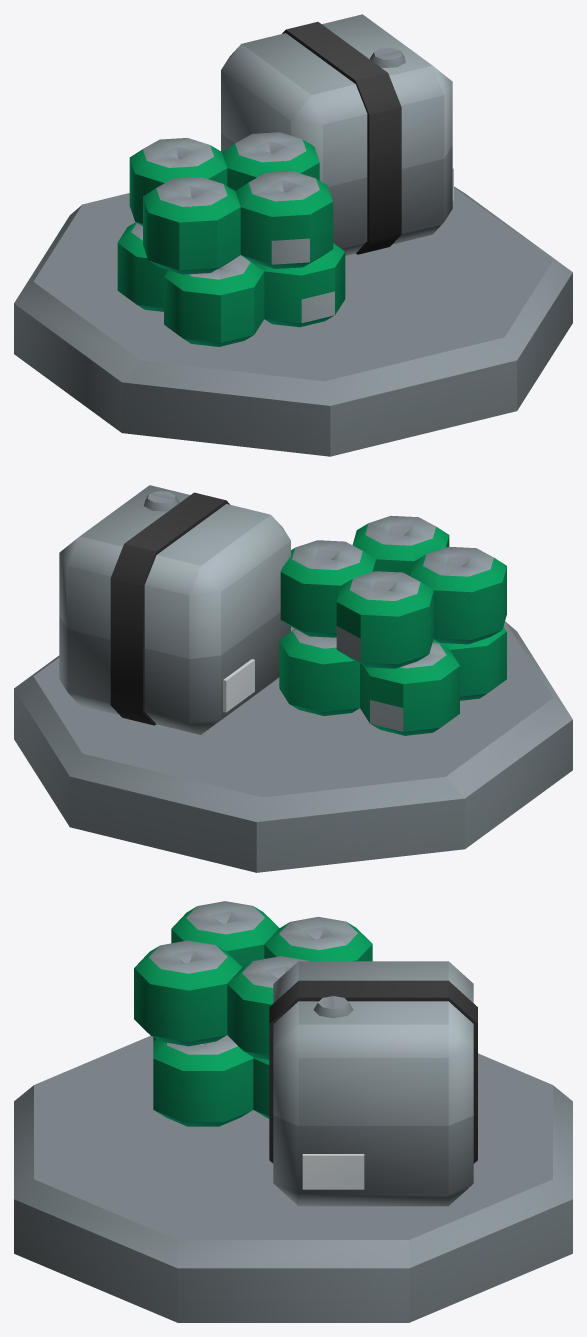
File: roofmodule-cargo-a.glb
3 renders of one model, top to bottom at view 1: azimuth 30°, elevation 25°; view 2: azimuth 150°, elevation 25°; view 3: azimuth 270°, elevation 25°, orthographic. The views are drawn at different scales.
Parts seen in each view (by area): view 1: roofmodule_cargo_A; view 2: roofmodule_cargo_A; view 3: roofmodule_cargo_A.
Part boxes in pixels (box(x1,y1,x2,y2)): roofmodule_cargo_A: box(14, 14, 572, 456); roofmodule_cargo_A: box(14, 485, 572, 872); roofmodule_cargo_A: box(14, 901, 572, 1322).
Bounding box in the file's own units: 1.4 × 0.72 × 1.4.
Materials: 1 (1 with a texture image).
